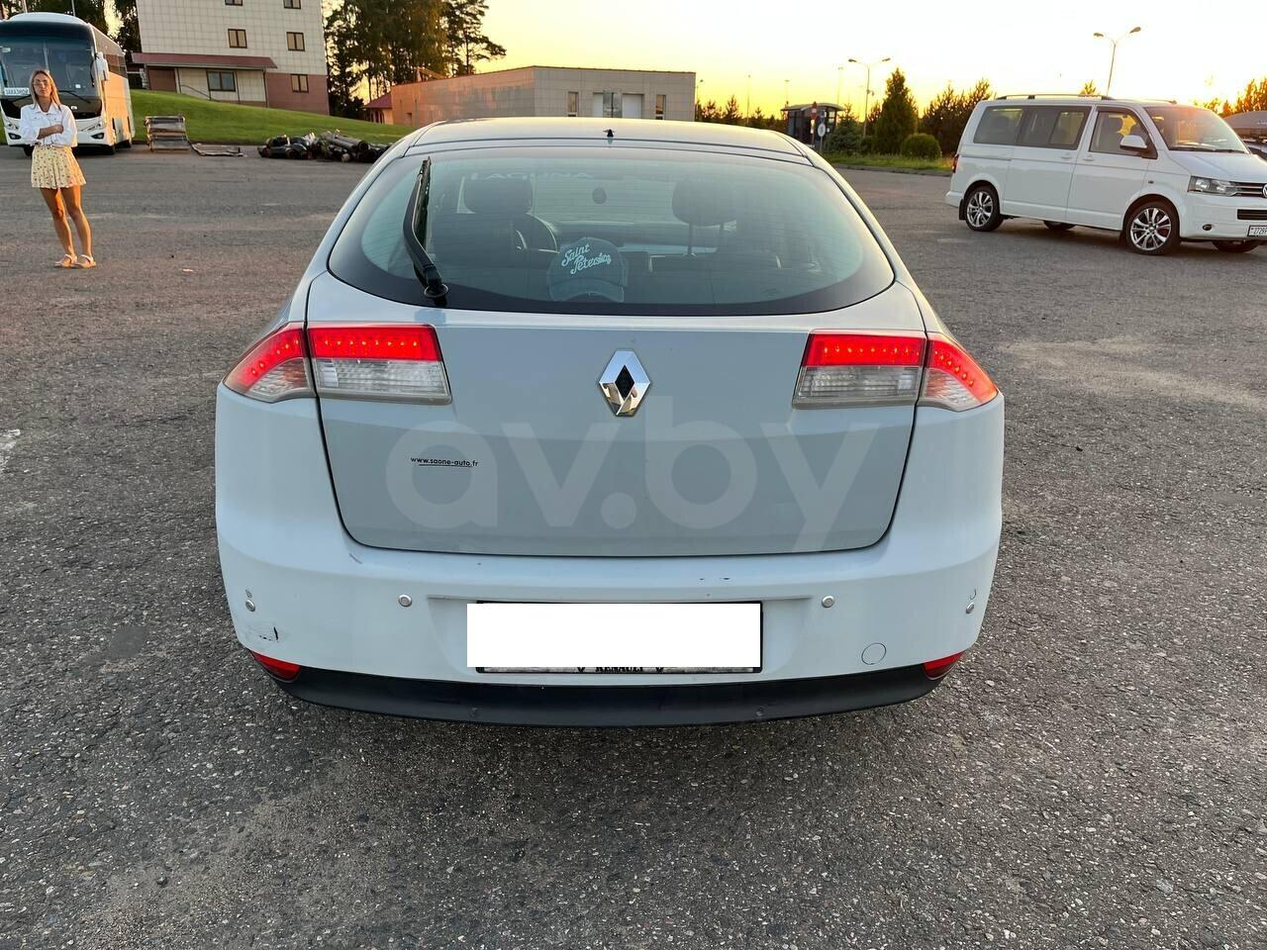Laguna_2007-2011: (217, 119, 1003, 723)
